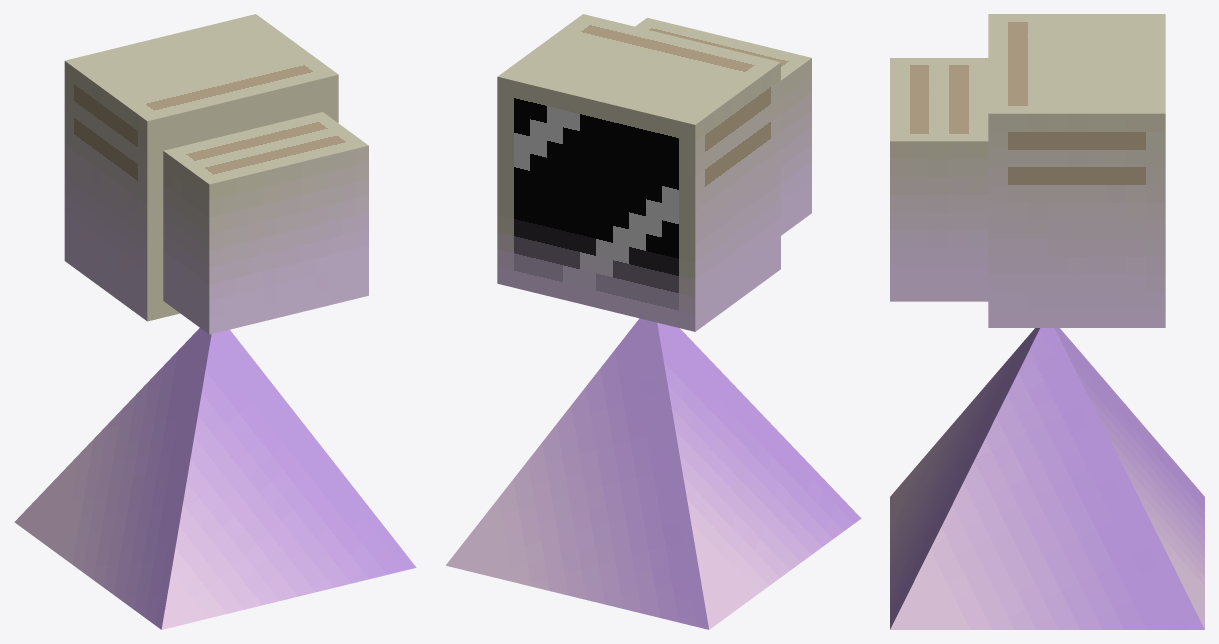
File: Station.fbx
3 views of the same model, side by side, from view 1: azimuth 30°, elevation 25°; view 2: azimuth 150°, elevation 25°; view 3: azimuth 270°, elevation 25° (orthographic). The views are drawn at different scales.
Parts seen in each view (by area): view 1: pyramid, cube_1, cube; view 2: cube_1, pyramid, cube; view 3: pyramid, cube_1, cube.
Part boxes in pixels (<box>): pyramid: <box>14,328,416,629</box>; cube_1: <box>64,14,338,321</box>; cube: <box>163,112,368,334</box>; cube_1: <box>497,14,780,331</box>; pyramid: <box>446,318,861,629</box>; cube: <box>635,17,811,235</box>; pyramid: <box>890,328,1204,629</box>; cube_1: <box>988,14,1165,327</box>; cube: <box>890,58,988,301</box>.
Bounding box in the file's own units: 100 × 175 × 100.
2 materials, 2 textured.
